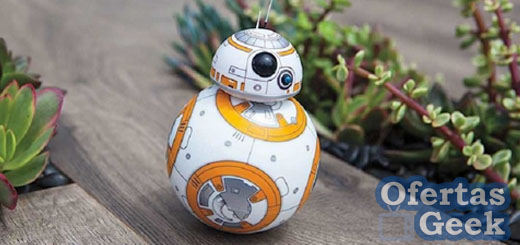bb8: (165, 28, 320, 234)
